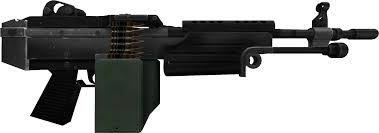gun: (0, 0, 377, 131)
